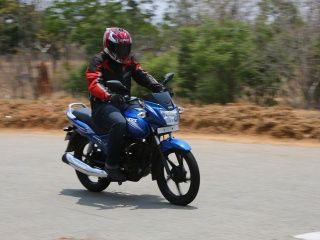helmet: (103, 26, 131, 62)
